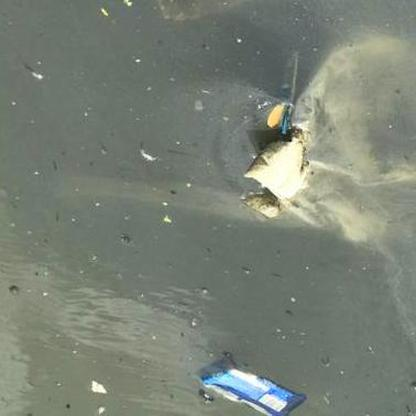plastic bag: (244, 37, 416, 240), (199, 357, 304, 416)
